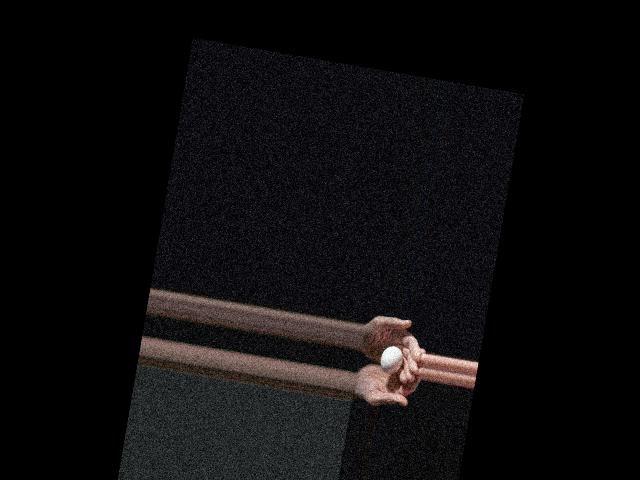egg: (378, 344, 405, 375)
